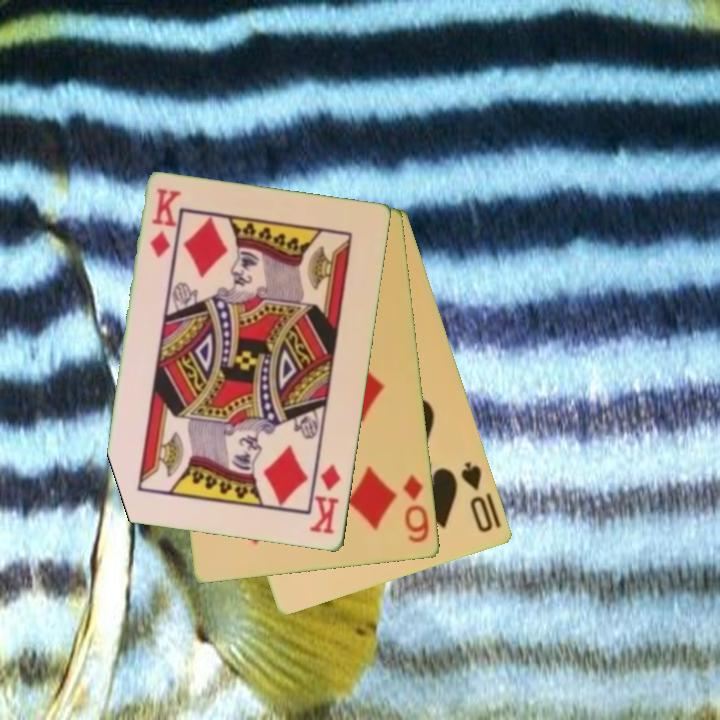10s: (458, 458, 497, 536)
6d: (399, 471, 433, 546)
Kd: (307, 461, 344, 538), (147, 185, 183, 262)
